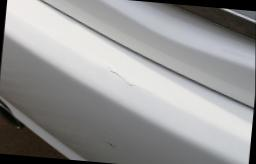Bumper: (80, 53, 161, 164)
